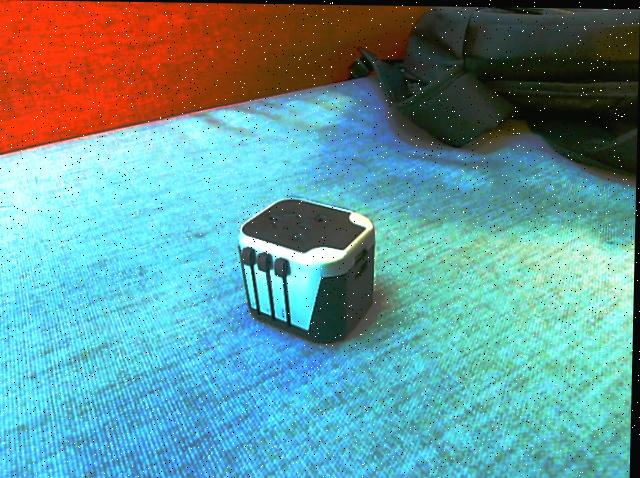adapter: (236, 195, 377, 344)
